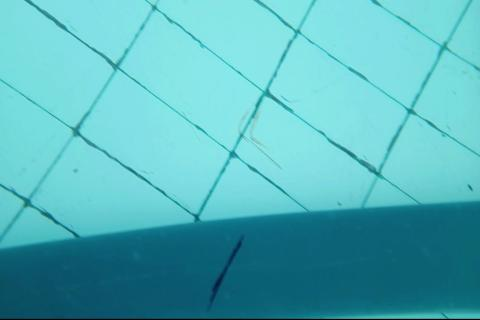keretakan: (206, 233, 244, 313)
